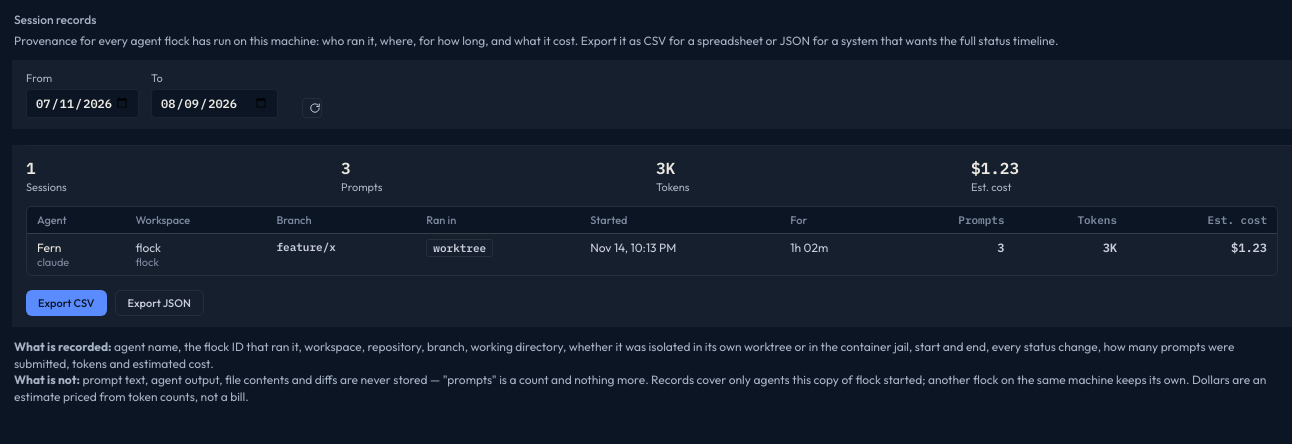
Scenario: ProvenanceSection › exports the window on screen, to the path the dialog returned
This screenshot has width=1292, height=444.
What coordinates should you click on to do the following:
click the button "Export CSV"
I would click on:
 (66, 303)
Its box is [26,290,106,316].
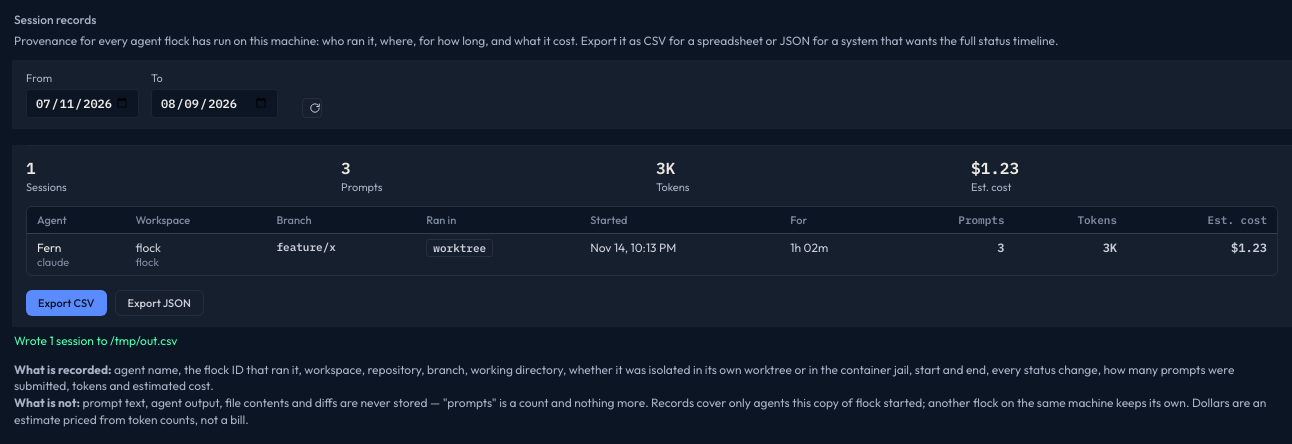
Expected: the text "Wrote 1 session to /tmp/out.csv" is shown, [14,333,178,348]
